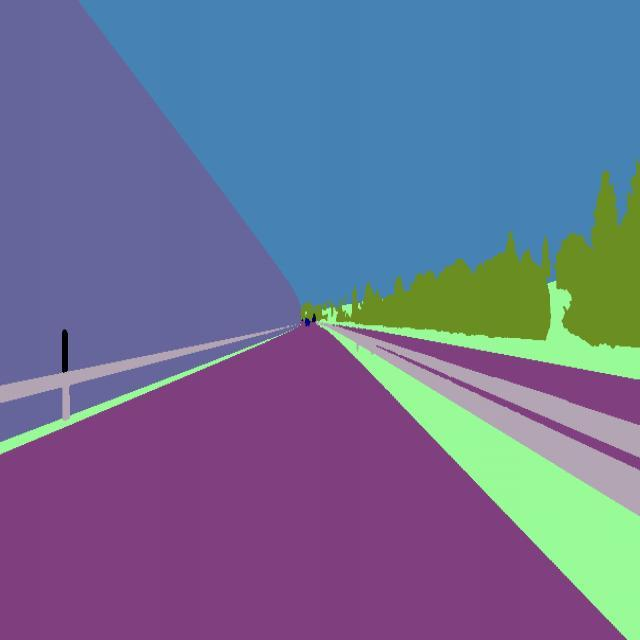safe: (303, 316, 313, 329), (310, 312, 318, 326)
